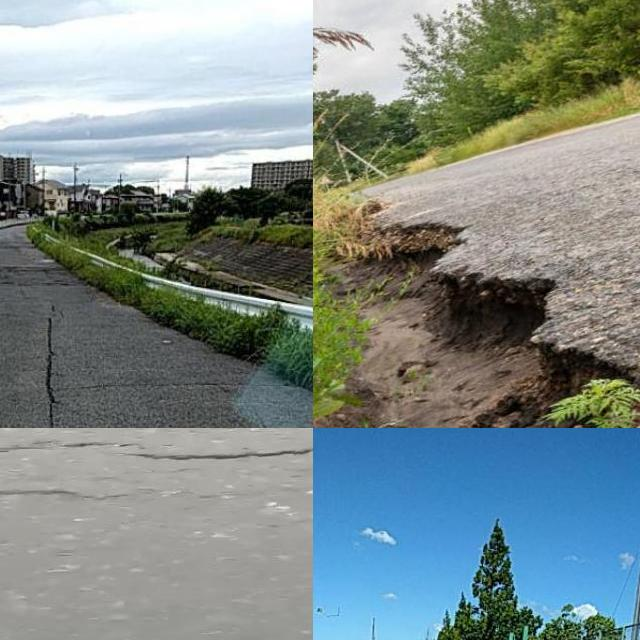Melintang: (0, 428, 313, 472)
Memanjang: (37, 310, 69, 428)
Pinggir: (339, 212, 640, 428)
